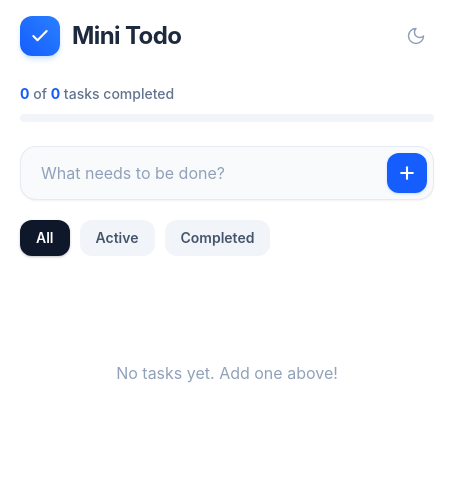
Test: CRUD — Add Task › adds a new task and clears the input when user types and clicks add button
The width and height of the screenshot is (455, 485).
Type "Write unit tests" into the field with placeholder "What needs to be done?" at (214, 173), box left=41, top=157, right=387, bottom=189
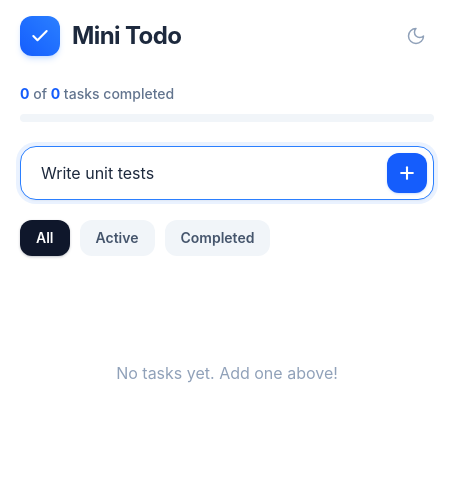
Click the button named "add task" at (407, 173), box left=387, top=153, right=427, bottom=193
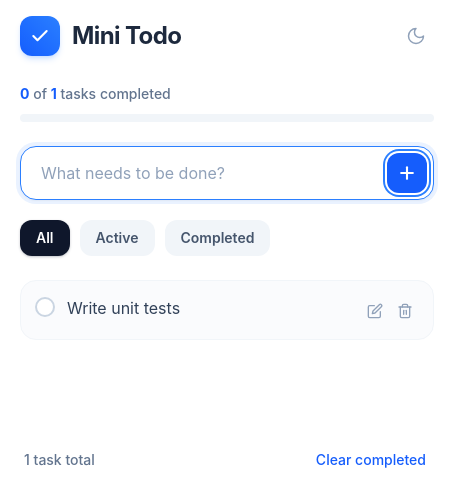
Now the text "Write unit tests" is shown, box left=67, top=298, right=180, bottom=318
Now the field with placeholder "What needs to be done?" is empty, box left=41, top=157, right=387, bottom=189
